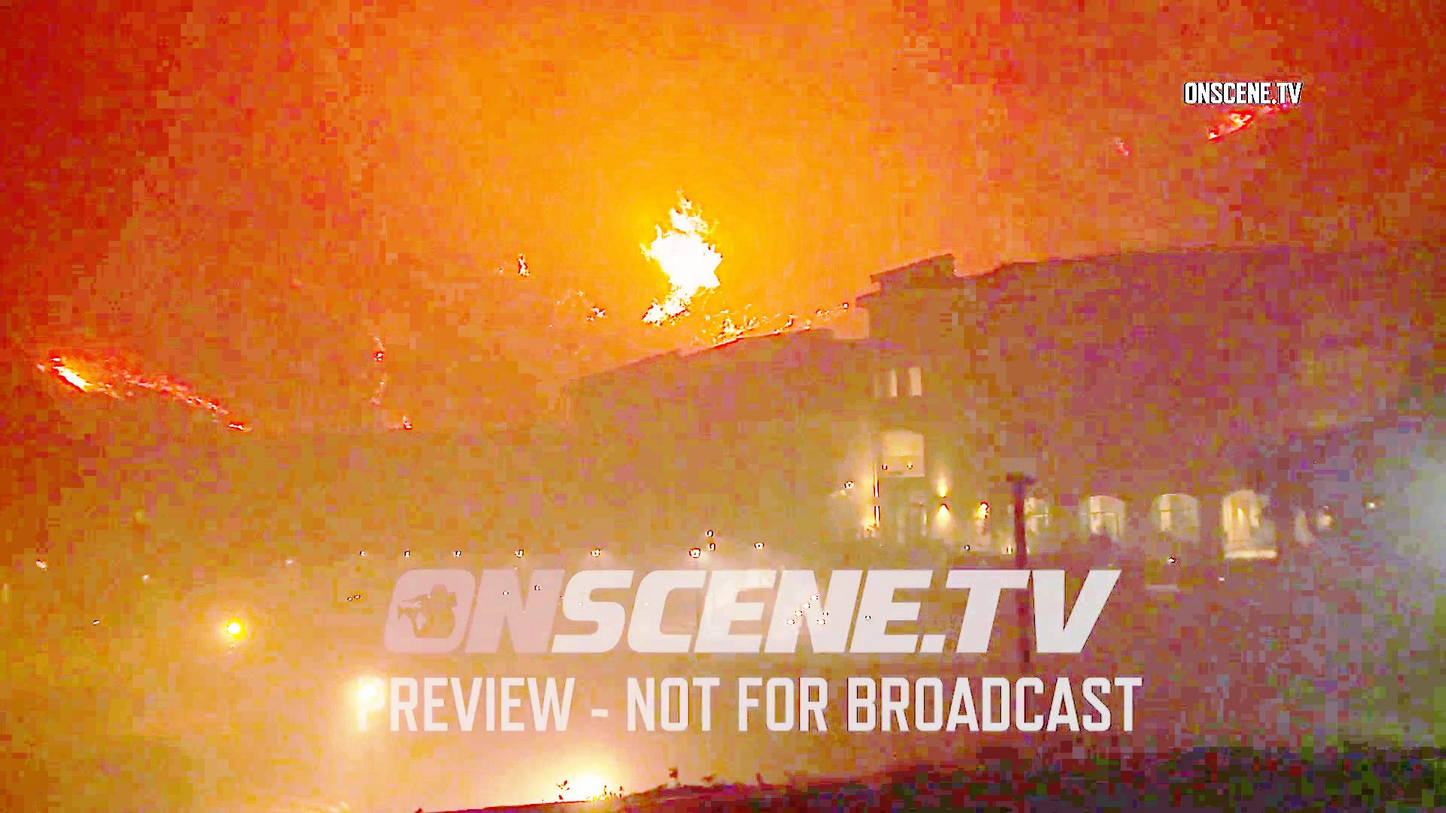fire: (627, 164, 728, 323)
